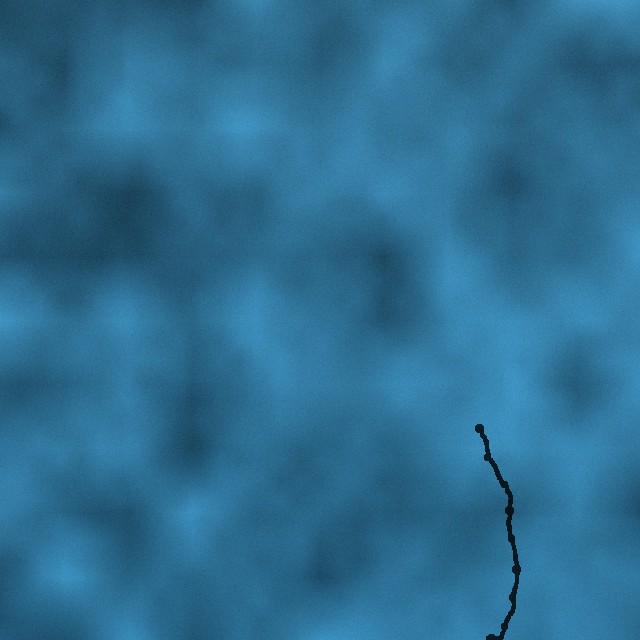crack: (475, 424, 521, 639)
